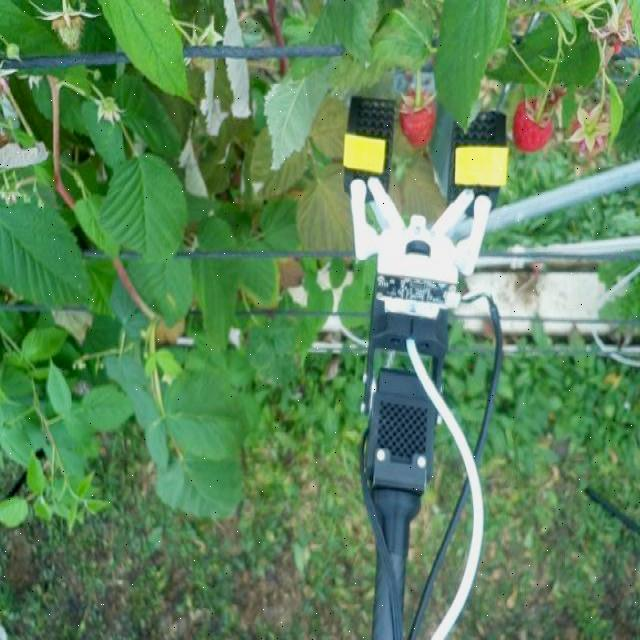Riped berries: (397, 86, 448, 148), (511, 94, 555, 154), (570, 100, 616, 156)
